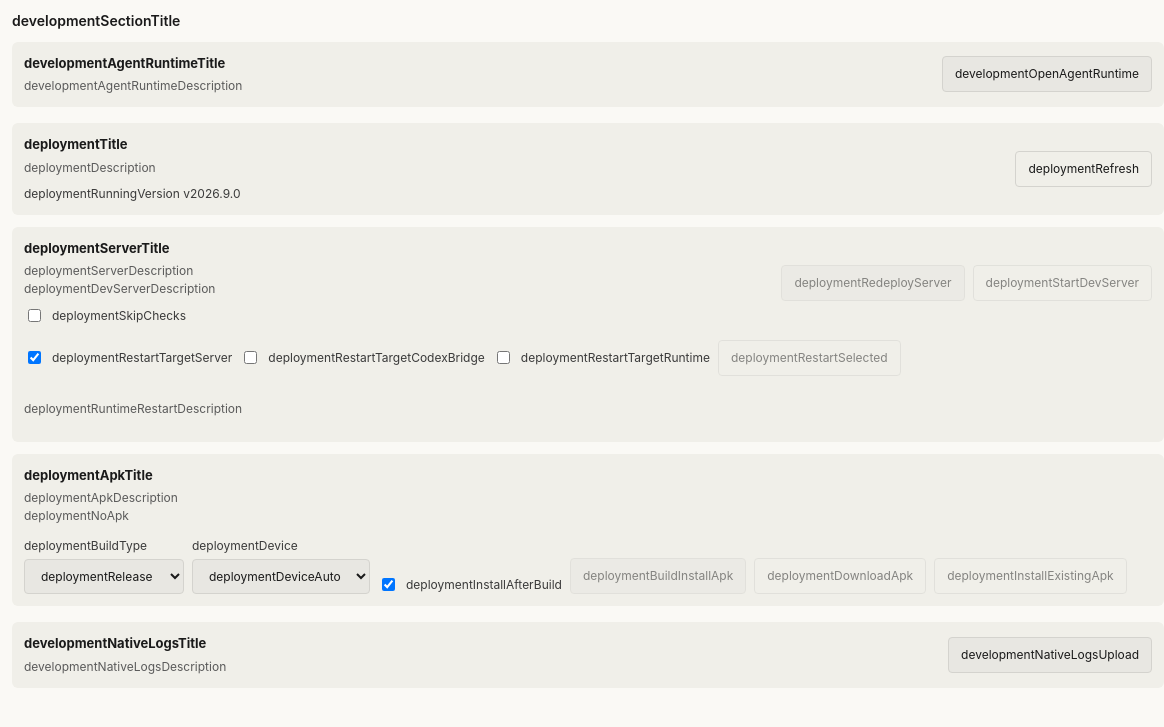
Test: DevelopmentSettings › explicitly includes runtime in server and warns before sending
Expected: the text "deploymentRuntimeRestartWarning" is not shown
Click the checkbox labelled "deploymentRestartTargetRuntime". click: (503,358)
box: [497,351,510,364]
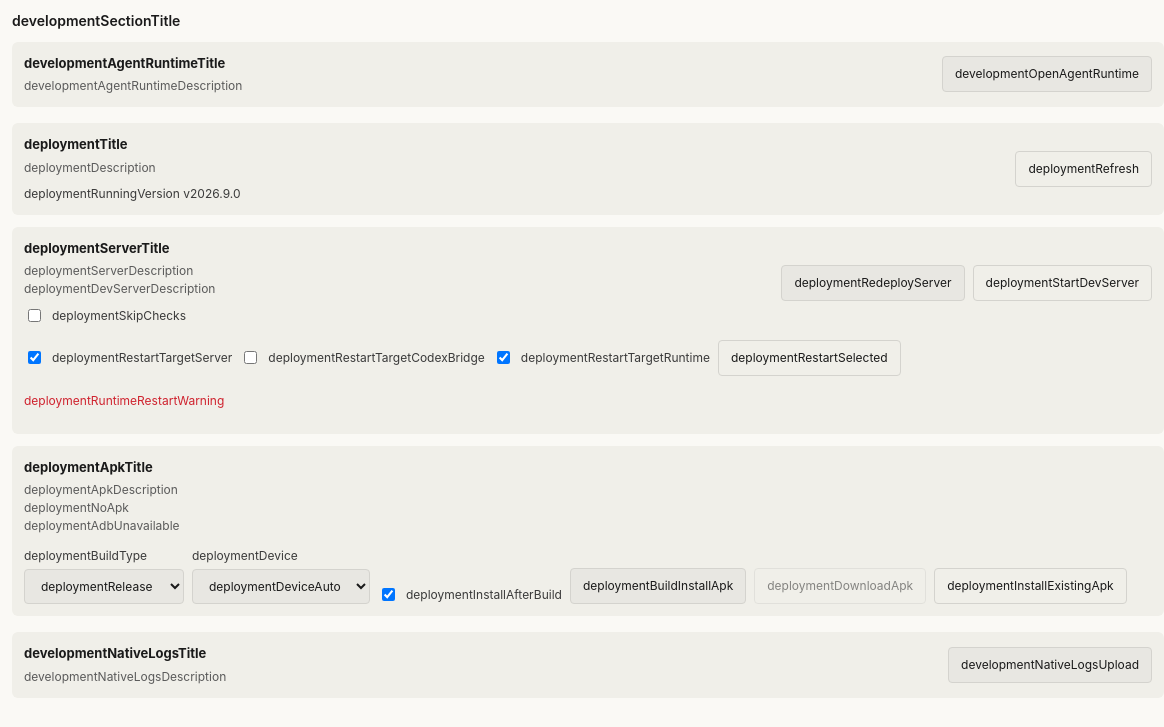
Now the message reads "deploymentRuntimeRestartWarning", box [24,392,224,408]
Now the button "deploymentRedeployServer" is enabled
Click the button "deploymentRedeployServer". click: (873,283)
box: [781,265,964,301]
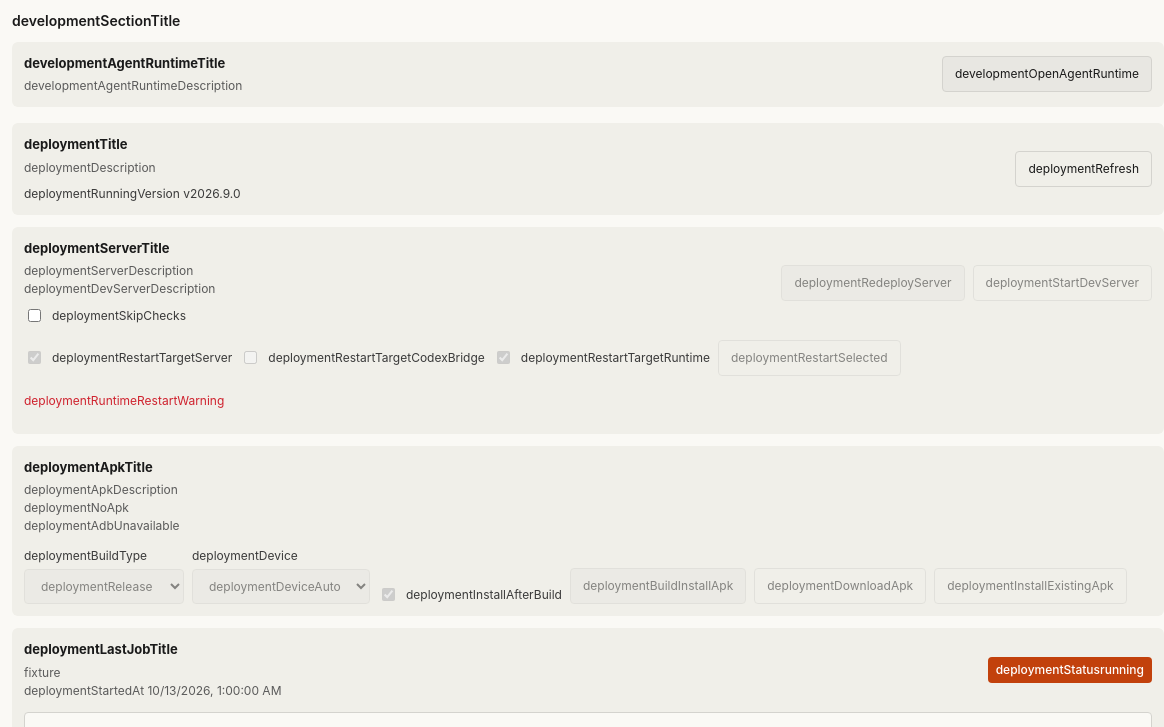
Now the checkbox labelled "deploymentRestartTargetRuntime" is disabled, box [497,351,510,364]
